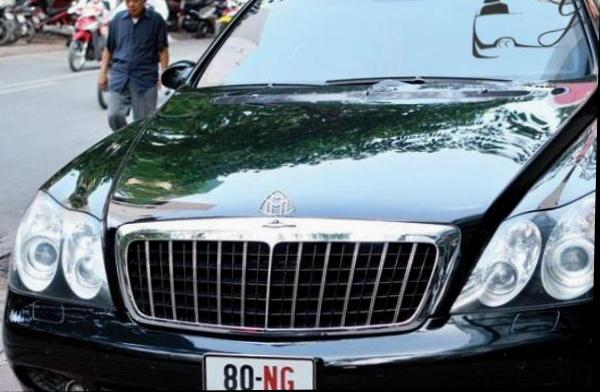License_Plate: (199, 352, 324, 389)
